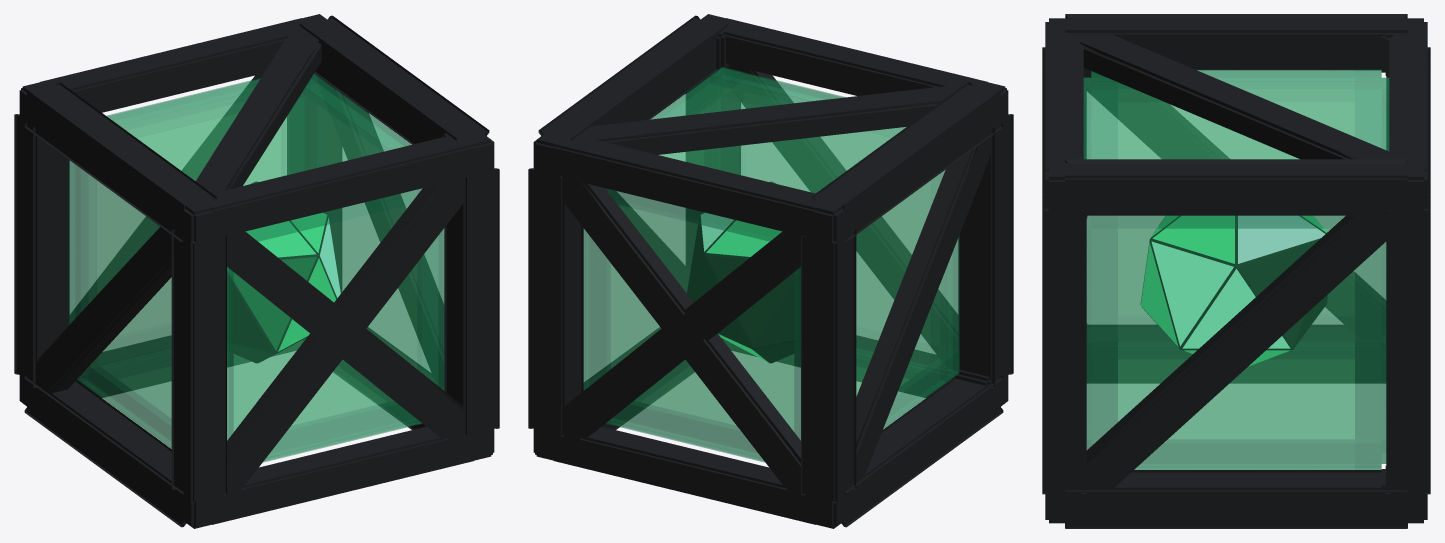
Rendered from block_siphon.glb.
3 views of the same model, side by side, from view 1: azimuth 30°, elevation 25°; view 2: azimuth 150°, elevation 25°; view 3: azimuth 270°, elevation 25° (orthographic). The views are drawn at different scales.
Parts seen in each view (by area): view 1: Siphon_Cage, Siphon_Glass, Siphon_Plasma; view 2: Siphon_Cage, Siphon_Glass, Siphon_Plasma; view 3: Siphon_Cage, Siphon_Glass, Siphon_Plasma.
Boxes of the visible parts, x1=… form: Siphon_Cage: x1=14, y1=14, x2=499, y2=528; Siphon_Glass: x1=68, y1=73, x2=444, y2=462; Siphon_Plasma: x1=227, y1=181, x2=340, y2=363; Siphon_Cage: x1=528, y1=14, x2=1013, y2=528; Siphon_Glass: x1=583, y1=67, x2=959, y2=462; Siphon_Plasma: x1=687, y1=181, x2=856, y2=363; Siphon_Cage: x1=1042, y1=14, x2=1430, y2=528; Siphon_Glass: x1=1083, y1=69, x2=1389, y2=469; Siphon_Plasma: x1=1140, y1=216, x2=1327, y2=366.
Bounding box in the file's own units: 1.02 × 1.02 × 1.02.
